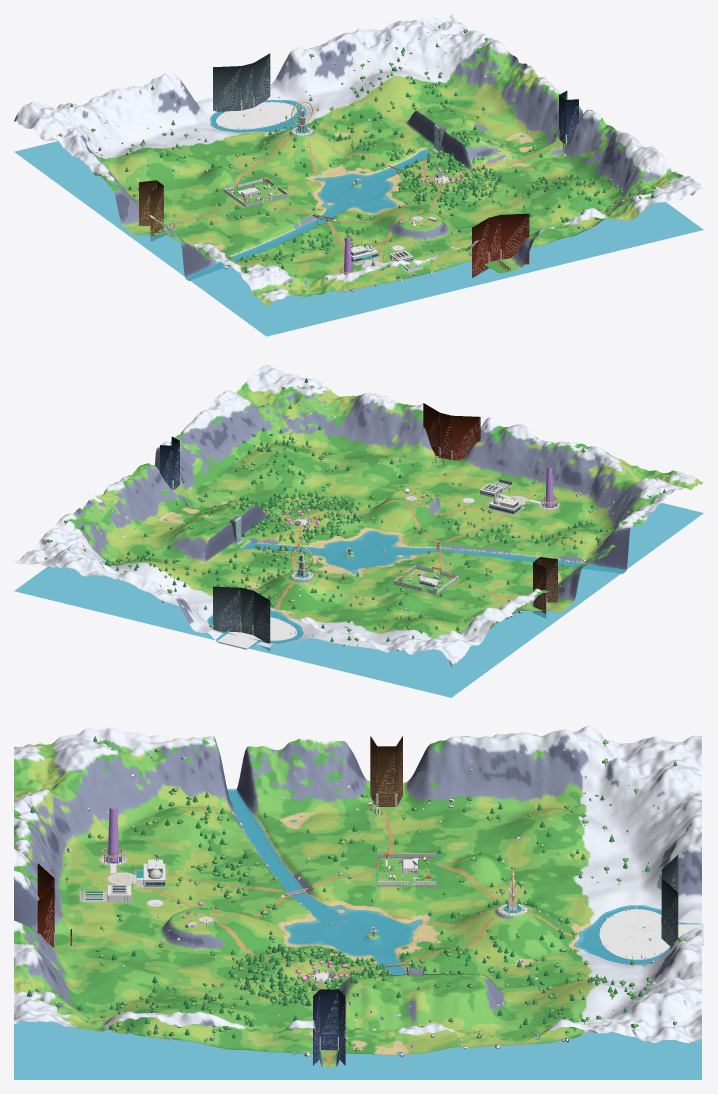
Rendered from world_alpha.glb.
The picture shows the model from 3 angles, top to bottom: view 1: azimuth 30°, elevation 25°; view 2: azimuth 150°, elevation 25°; view 3: azimuth 270°, elevation 25°; orthographic projection. The views are drawn at different scales.
Visible parts, largest first — view 1: Terrain, Water, Trees_Leaves, COL_Props, Seam_north_Gate, Seam_south_Gate, Seam_west_Gate, Seam_east_Gate; view 2: Terrain, Water, Trees_Leaves, COL_Props, Seam_north_Gate, Seam_south_Gate, Seam_west_Gate, Seam_east_Gate, Campus; view 3: Terrain, Water, Trees_Leaves, COL_Props, Seam_east_Gate, Seam_west_Gate, Seam_north_Gate, Seam_south_Gate, Campus, Rocks.
Boxes of the visible parts, x1,y1,x2,y2 form: Terrain: (14,14,703,305); Water: (14,100,703,336); Trees_Leaves: (58,25,655,287); COL_Props: (88,23,654,291); Seam_north_Gate: (213,53,270,112); Seam_south_Gate: (472,213,529,277); Seam_west_Gate: (139,180,163,240); Seam_east_Gate: (559,91,578,143); Terrain: (14,365,702,666); Water: (14,502,703,697); Trees_Leaves: (44,378,665,641); COL_Props: (45,383,664,650); Seam_north_Gate: (213,586,270,650); Seam_south_Gate: (423,403,480,460); Seam_west_Gate: (533,557,557,617); Seam_east_Gate: (160,436,179,489); Campus: (466,479,558,514); Terrain: (14,726,701,1066); Water: (14,789,701,1079); Trees_Leaves: (27,736,689,1051); COL_Props: (29,741,703,1056); Seam_east_Gate: (313,989,345,1065); Seam_west_Gate: (370,736,402,806); Seam_north_Gate: (661,855,678,947); Seam_south_Gate: (37,863,54,947); Campus: (81,847,164,906); Rocks: (40,744,674,1057).
Bounding box in the file's own units: 720 × 94.73 × 722.
